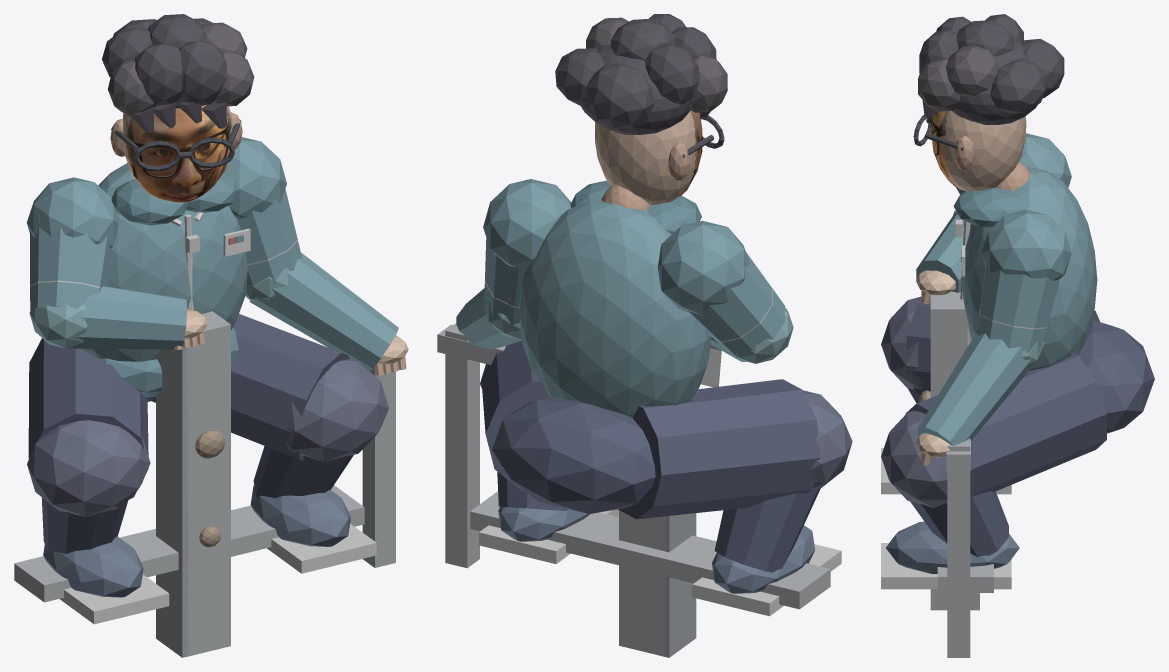
File: kien_an_student_crouching_face_uncovered.glb
The picture shows the model from 3 angles, left to right: view 1: azimuth 30°, elevation 25°; view 2: azimuth 150°, elevation 25°; view 3: azimuth 270°, elevation 25°; orthographic projection. The views are drawn at different scales.
Parts seen in each view (by area): view 1: Post_vertical, Jacket_Core, Pants_Upper_R, Pants_Knee_L, Post_vertical_side_shade, Pants_Upper_L, Jacket_Forearm_R, Pants_Knee_R, CustomPhotoFace3D, Jacket_Forearm_L, Crossbar_foot_platform, Jacket_Upper_Arm_L (+23 smaller); view 2: Jacket_Core, Pants_Upper_L, Crouch_Hips, Crossbar_foot_platform, Side_support_right, Jacket_Shoulder_L, Face_Head, Pants_Lower_L, Post_vertical, Jacket_Shoulder_R, Jacket_Upper_Arm_L, Pants_Upper_R (+23 smaller); view 3: Pants_Upper_R, Jacket_Core, Jacket_Forearm_R, Crouch_Hips, Jacket_Upper_Arm_R, Jacket_Shoulder_R, Side_support_right, Face_Head, Pants_Knee_R, Post_vertical, Sneaker_R, Pants_Lower_R (+22 smaller).
Boxes of the visible parts, x1,y1,x2,y2 form: Post_vertical: [185, 311, 230, 656]; Jacket_Core: [81, 163, 247, 361]; Pants_Upper_R: [150, 314, 349, 460]; Pants_Knee_L: [27, 420, 150, 516]; Post_vertical_side_shade: [156, 348, 188, 657]; Pants_Upper_L: [28, 338, 148, 499]; Jacket_Forearm_R: [250, 252, 398, 371]; Pants_Knee_R: [285, 359, 388, 461]; CustomPhotoFace3D: [126, 105, 232, 202]; Jacket_Forearm_L: [64, 286, 186, 349]; Crossbar_foot_platform: [14, 485, 364, 602]; Jacket_Upper_Arm_L: [30, 215, 112, 310]; Jacket_Core: [519, 200, 711, 417]; Pants_Upper_L: [618, 379, 820, 519]; Crouch_Hips: [492, 397, 655, 513]; Crossbar_foot_platform: [470, 491, 830, 609]; Side_support_right: [445, 323, 479, 568]; Jacket_Shoulder_L: [657, 220, 749, 315]; Face_Head: [595, 110, 698, 204]; Pants_Lower_L: [714, 487, 820, 572]; Post_vertical: [619, 510, 666, 656]; Jacket_Shoulder_R: [483, 179, 571, 268]; Jacket_Upper_Arm_L: [688, 251, 785, 356]; Pants_Upper_R: [481, 341, 550, 492]; Pants_Upper_R: [905, 353, 1106, 496]; Jacket_Core: [961, 167, 1097, 370]; Jacket_Forearm_R: [918, 333, 1034, 456]; Crouch_Hips: [1078, 320, 1154, 433]; Jacket_Upper_Arm_R: [977, 262, 1060, 353]; Jacket_Shoulder_R: [981, 209, 1071, 280]; Side_support_right: [947, 438, 970, 657]; Face_Head: [940, 111, 1026, 191]; Pants_Knee_R: [881, 410, 947, 507]; Post_vertical: [930, 291, 979, 610]; Sneaker_R: [886, 521, 1019, 573]; Pants_Lower_R: [910, 491, 1008, 557].
Size of the model in its own units: 1.15 by 1.8 by 0.775.
Materials: 1 (1 with a texture image).
